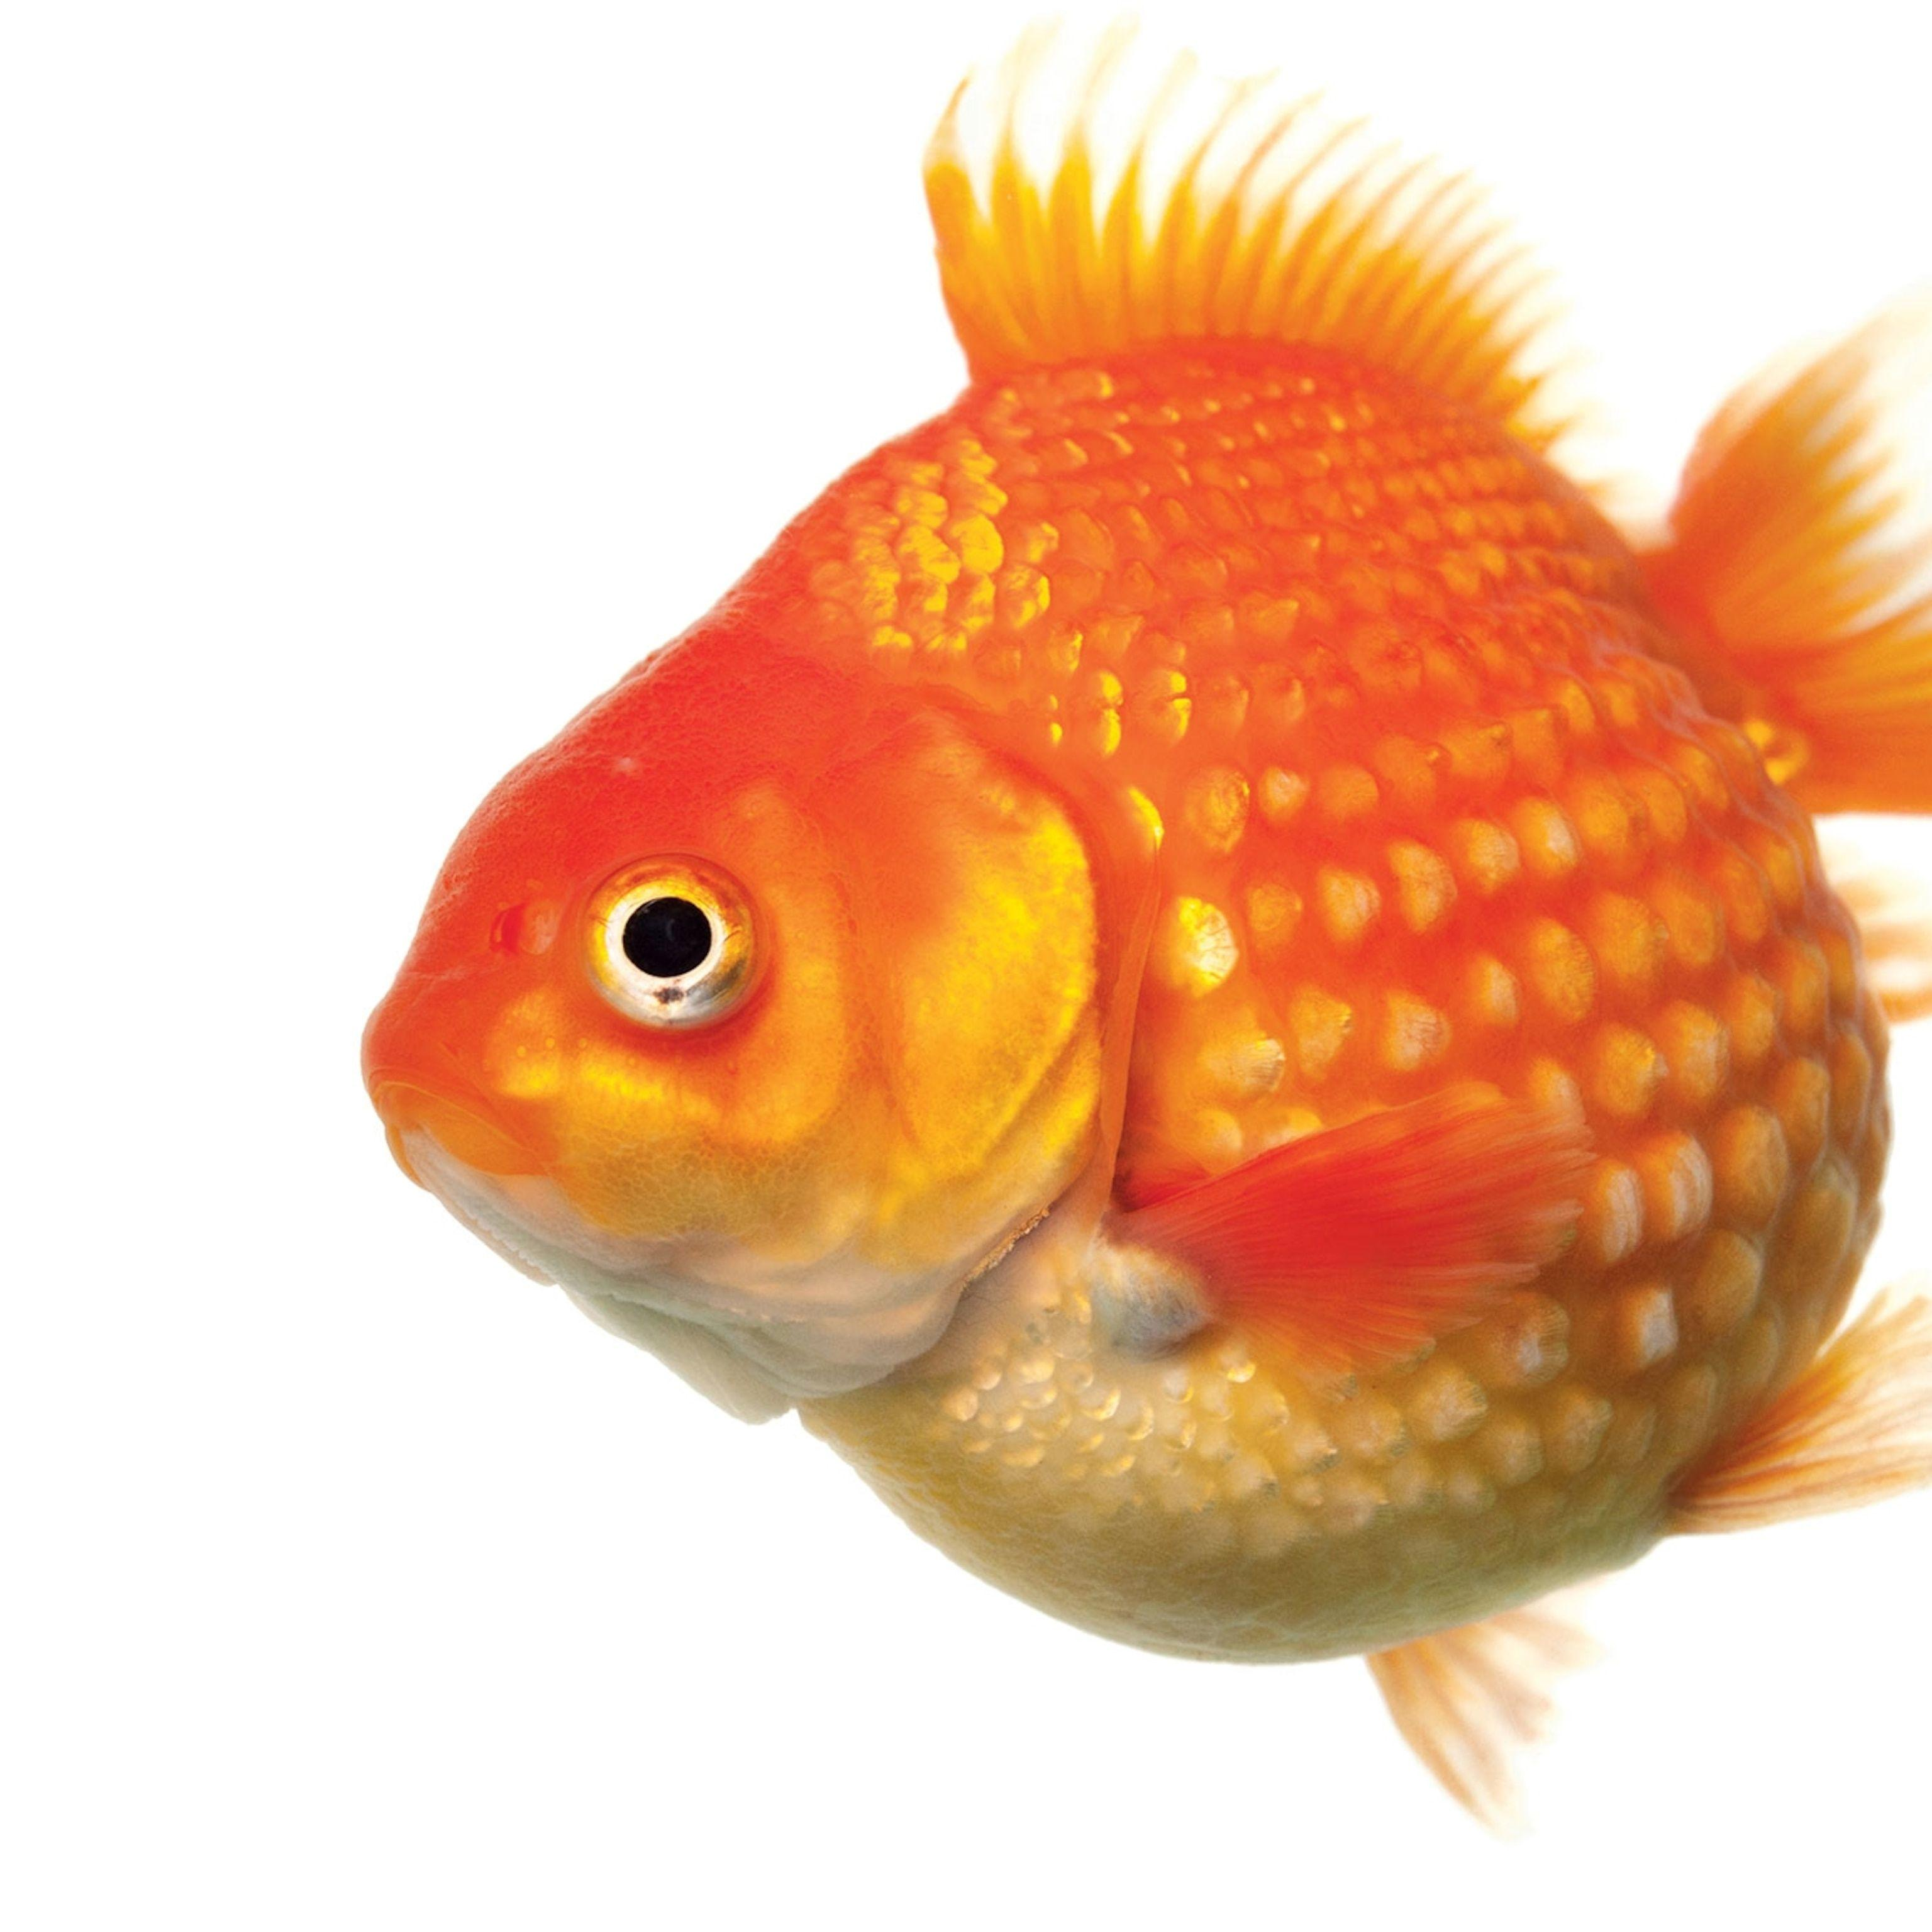Gold Fish: (349, 69, 1932, 1836)
